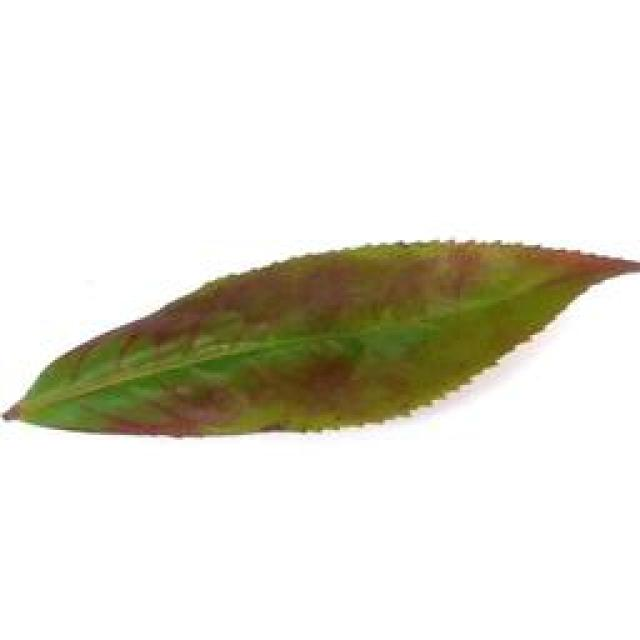Red Leaf Spot: (0, 235, 640, 456)
